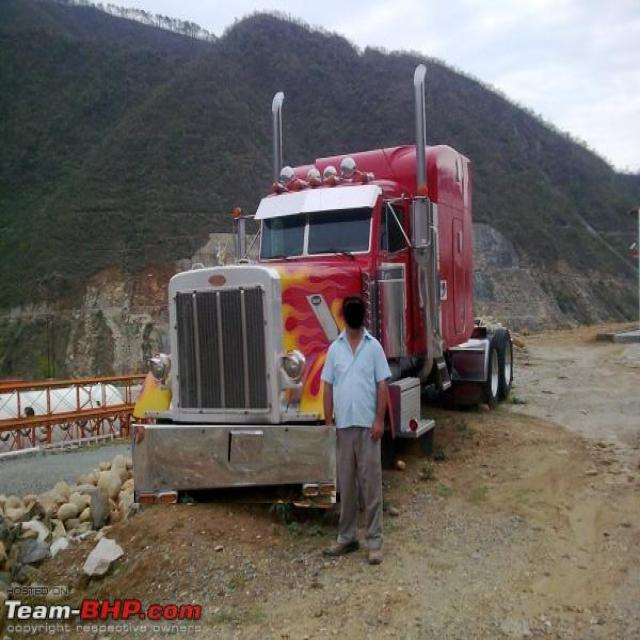truck: (136, 65, 514, 438), (134, 427, 336, 503)
